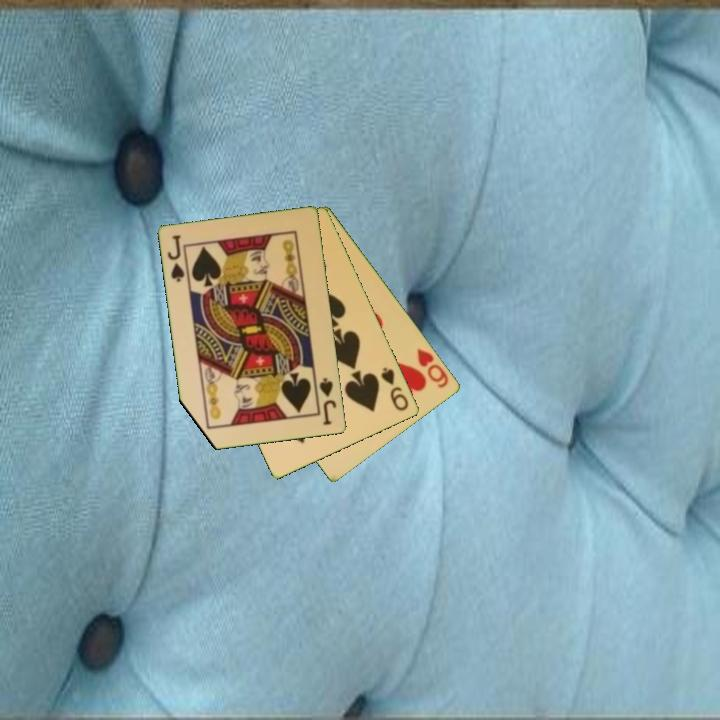6h: (414, 345, 452, 391)
9s: (378, 364, 412, 414)
Js: (164, 232, 188, 285), (316, 374, 339, 428)
